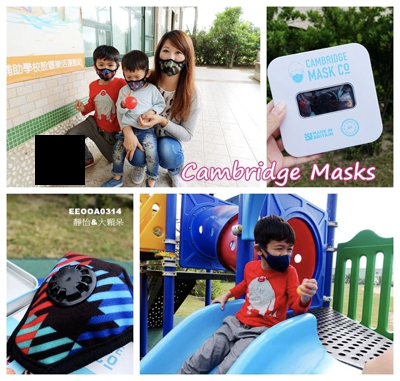with_mask: (265, 242, 295, 276), (157, 44, 186, 78), (94, 60, 118, 83), (124, 72, 147, 93)
